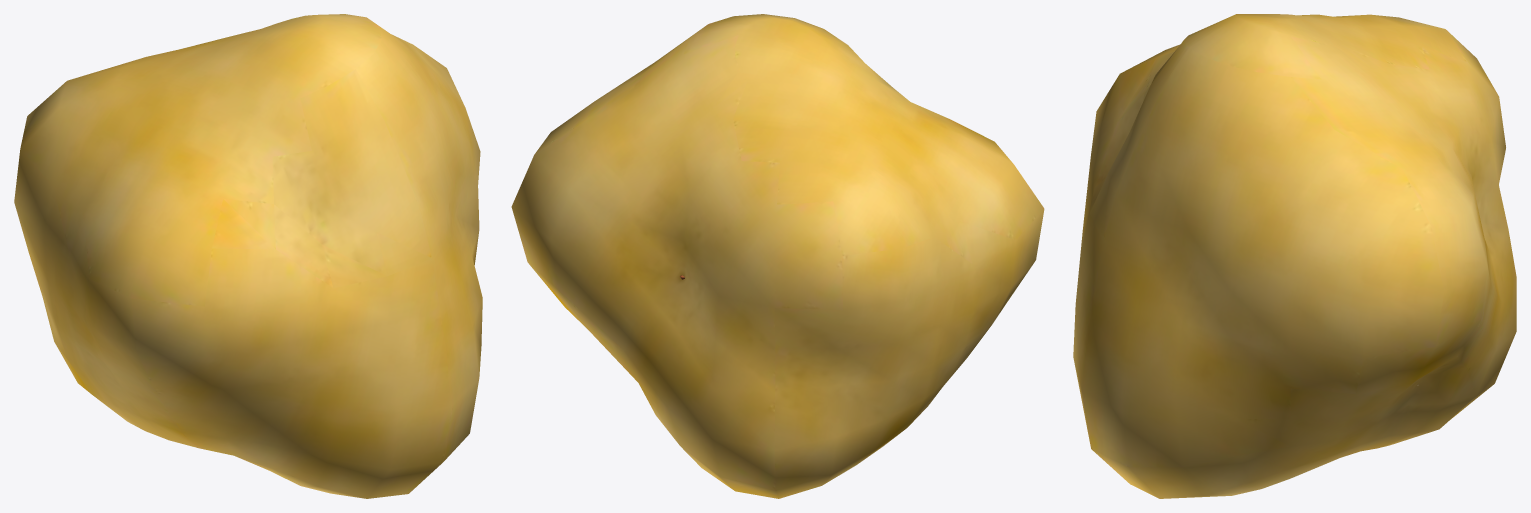
3 views of the same model, side by side, from view 1: azimuth 30°, elevation 25°; view 2: azimuth 150°, elevation 25°; view 3: azimuth 270°, elevation 25° (orthographic). The views are drawn at different scales.
Parts seen in each view (by area): view 1: Glossy_raw_gold; view 2: Glossy_raw_gold; view 3: Glossy_raw_gold.
Boxes of the visible parts, x1,y1,x2,y2 form: Glossy_raw_gold: (14, 14, 482, 498); Glossy_raw_gold: (511, 14, 1044, 498); Glossy_raw_gold: (1073, 14, 1516, 498).
Bounding box in the file's own units: 0.96 × 0.9157 × 0.8026.
3 materials, 3 textured.
